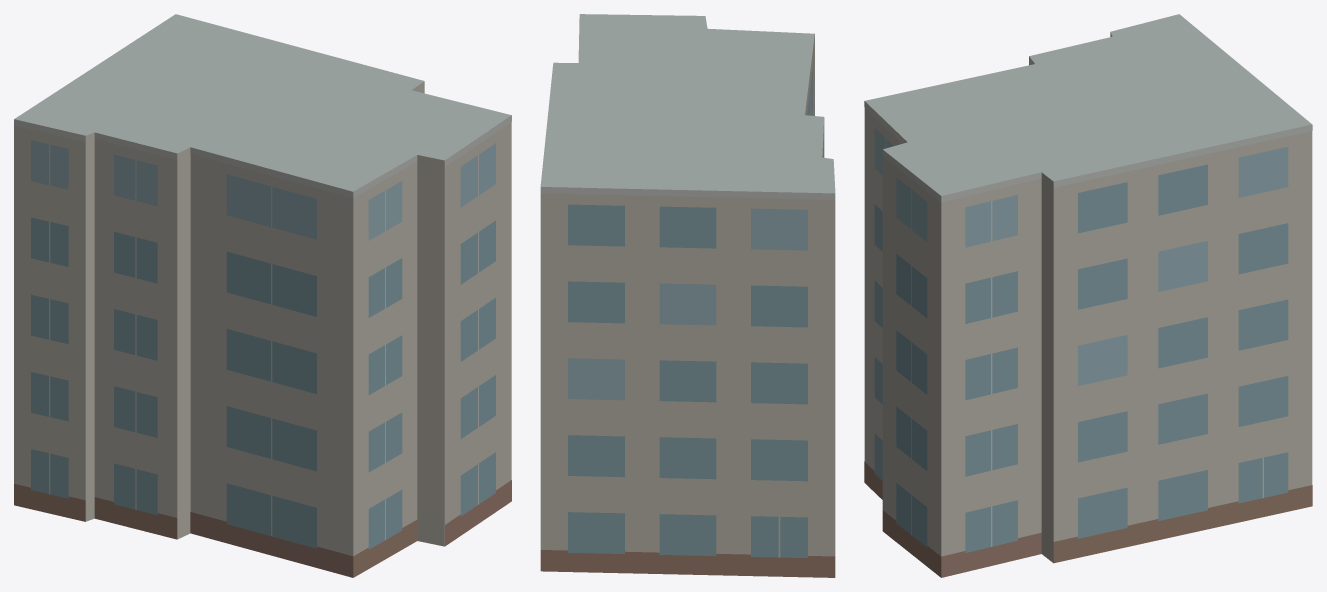
The model's file is survey-upis-32955280.glb.
The picture shows the model from 3 angles, left to right: view 1: azimuth 30°, elevation 25°; view 2: azimuth 150°, elevation 25°; view 3: azimuth 270°, elevation 25°; orthographic projection.
Visible parts, largest first — view 1: survey-upis-32955280.tmp; view 2: survey-upis-32955280.tmp; view 3: survey-upis-32955280.tmp.
Boxes of the visible parts, x1,y1,x2,y2 form: survey-upis-32955280.tmp: (14,14,511,577); survey-upis-32955280.tmp: (540,14,835,577); survey-upis-32955280.tmp: (864,14,1312,577).
Bounding box in the file's own units: 14.84 × 14.5 × 15.43.
